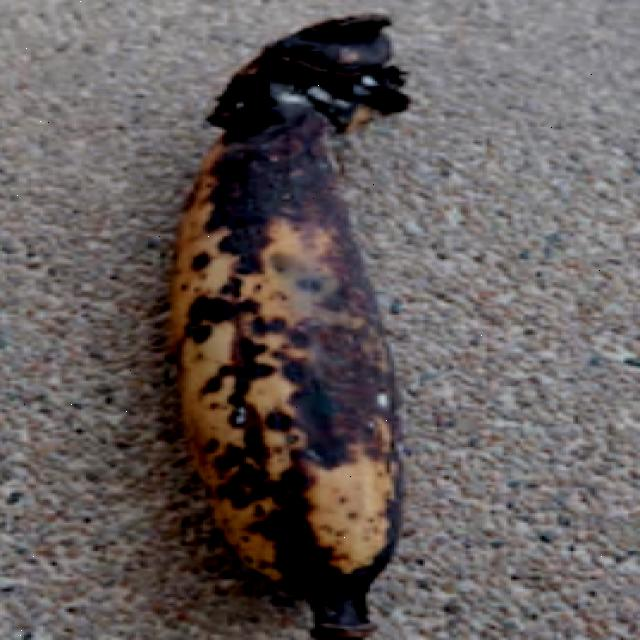Rotten: (116, 0, 482, 640)
